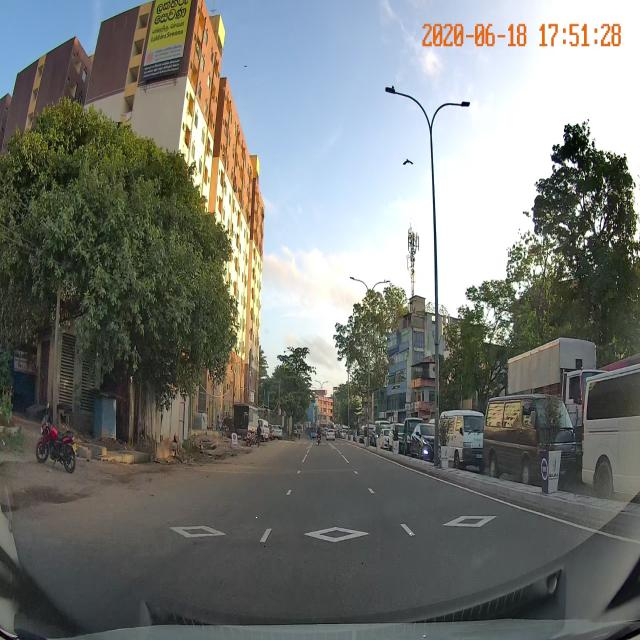diamond: (245, 513, 420, 577)
